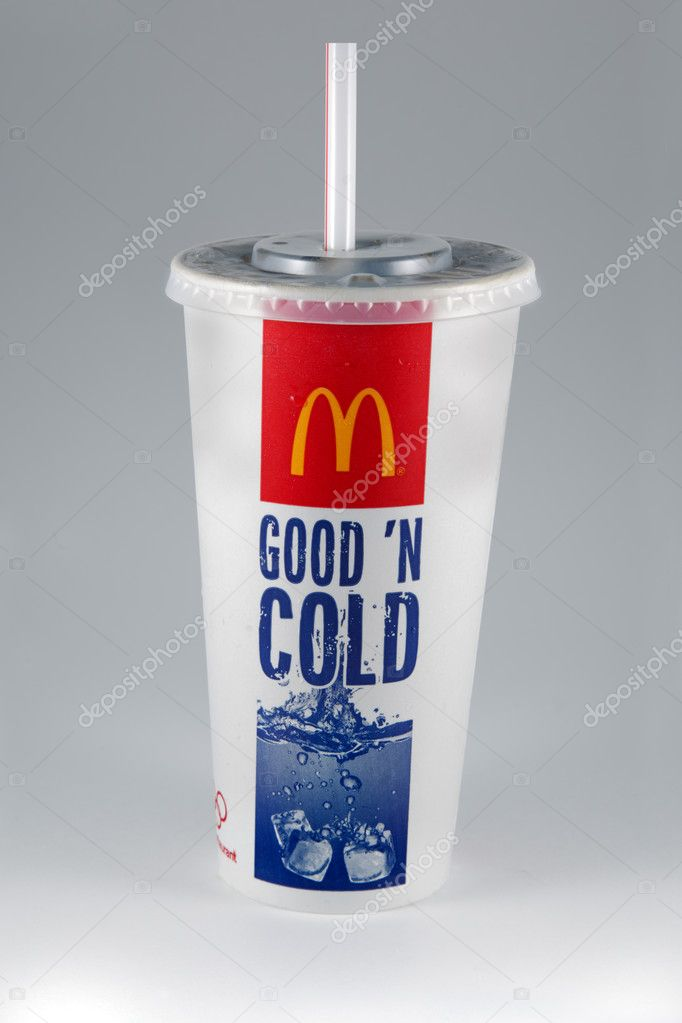mcdonalds: (289, 384, 403, 488)
